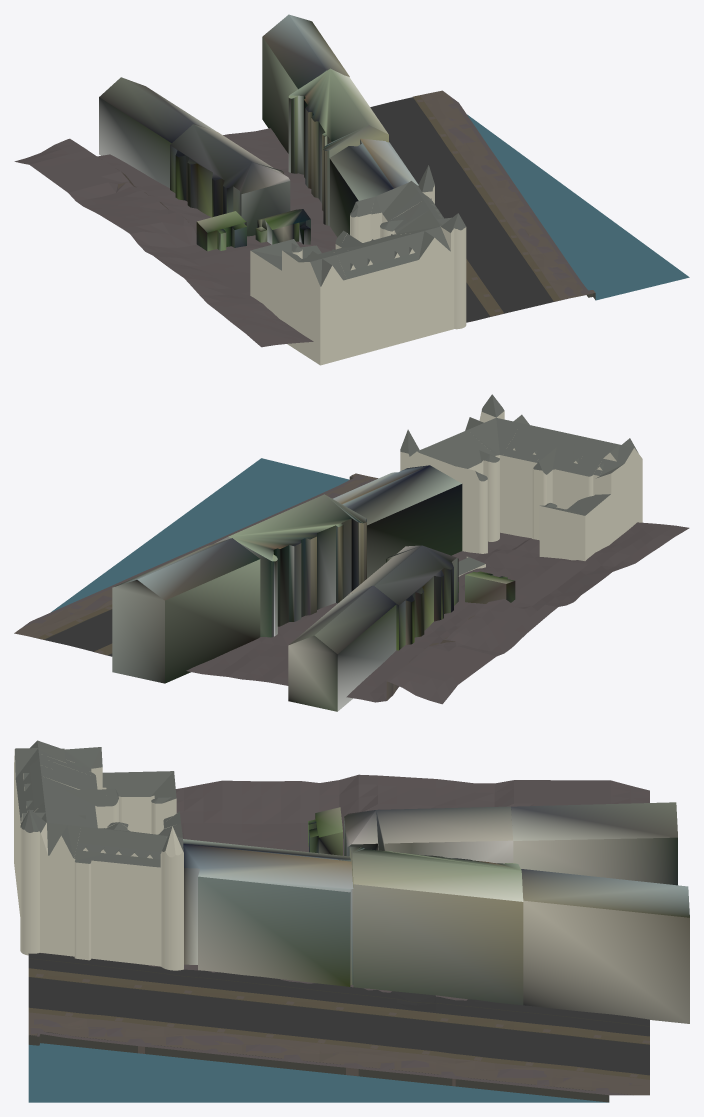
The picture shows the model from 3 angles, top to bottom: view 1: azimuth 30°, elevation 25°; view 2: azimuth 150°, elevation 25°; view 3: azimuth 270°, elevation 25°; orthographic projection. The views are drawn at different scales.
Visible parts, largest first — view 1: c_p03_m03; view 2: c_p03_m03; view 3: c_p03_m03.
Boxes of the visible parts, x1=… form: c_p03_m03: x1=14, y1=14, x2=689, y2=365; c_p03_m03: x1=14, y1=394, x2=689, y2=711; c_p03_m03: x1=14, y1=740, x2=689, y2=1102.
Size of the model in its own units: 128 by 34.45 by 139.
